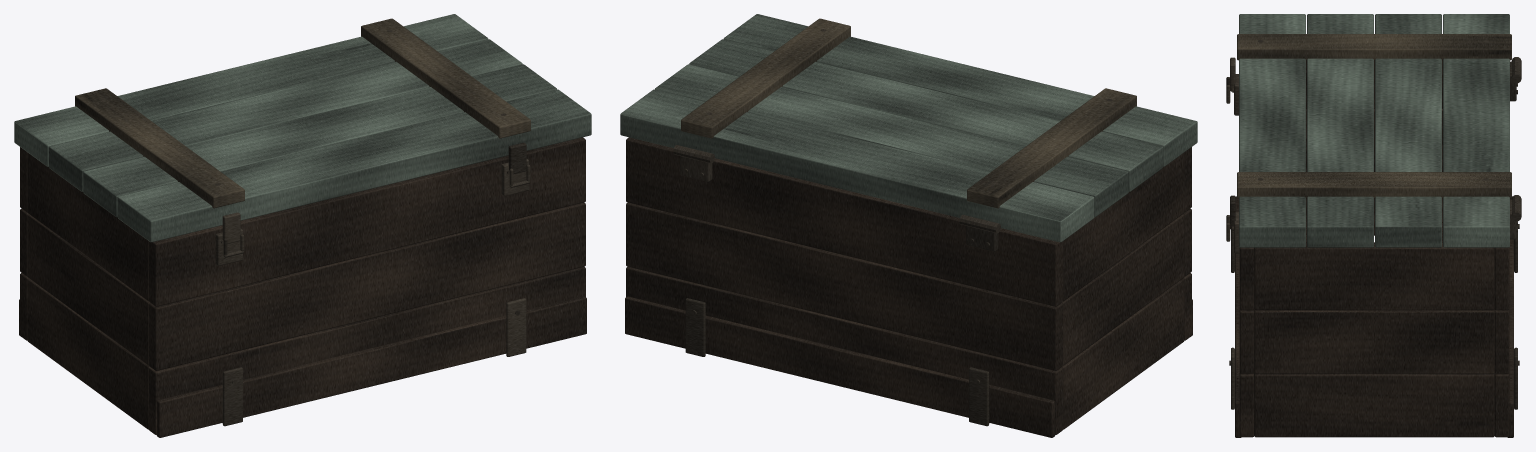
The model's file is StorageChest.fbx.
The picture shows the model from 3 angles, left to right: view 1: azimuth 30°, elevation 25°; view 2: azimuth 150°, elevation 25°; view 3: azimuth 270°, elevation 25°; orthographic projection.
Parts seen in each view (by area): view 1: Body, Lid; view 2: Body, Lid; view 3: Lid, Body.
Part boxes in pixels (<box>): Body: <box>19,137,586,437</box>; Lid: <box>14,14,591,257</box>; Body: <box>625,137,1192,437</box>; Lid: <box>620,14,1197,242</box>; Lid: <box>1226,14,1521,247</box>; Body: <box>1229,60,1519,437</box>.
Size of the model in its own units: 100 by 50 by 58.6.
1 material, 1 textured.
